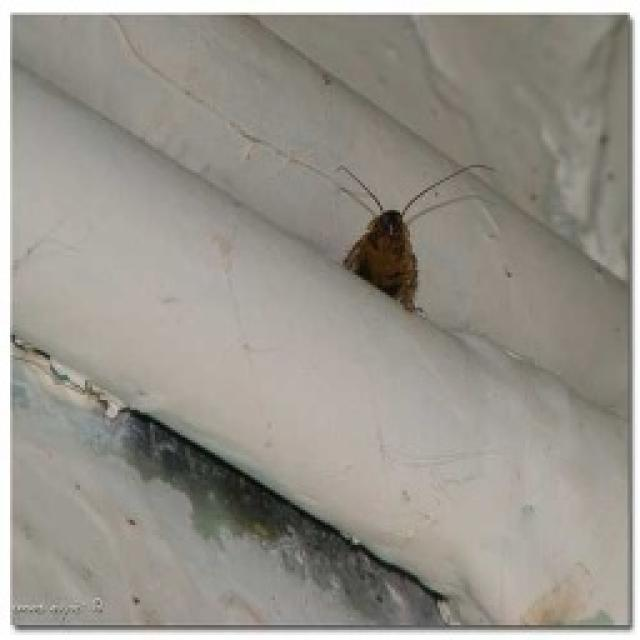cockroach: (329, 156, 503, 319)
